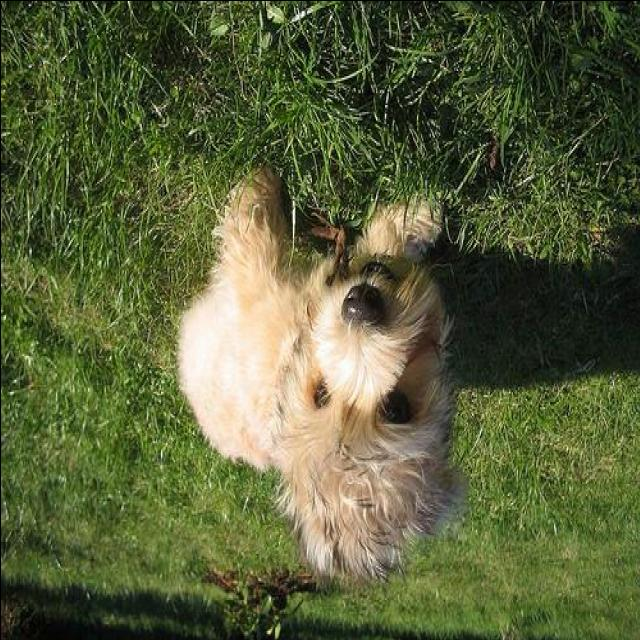dandie_dinmont: (179, 164, 469, 584)
